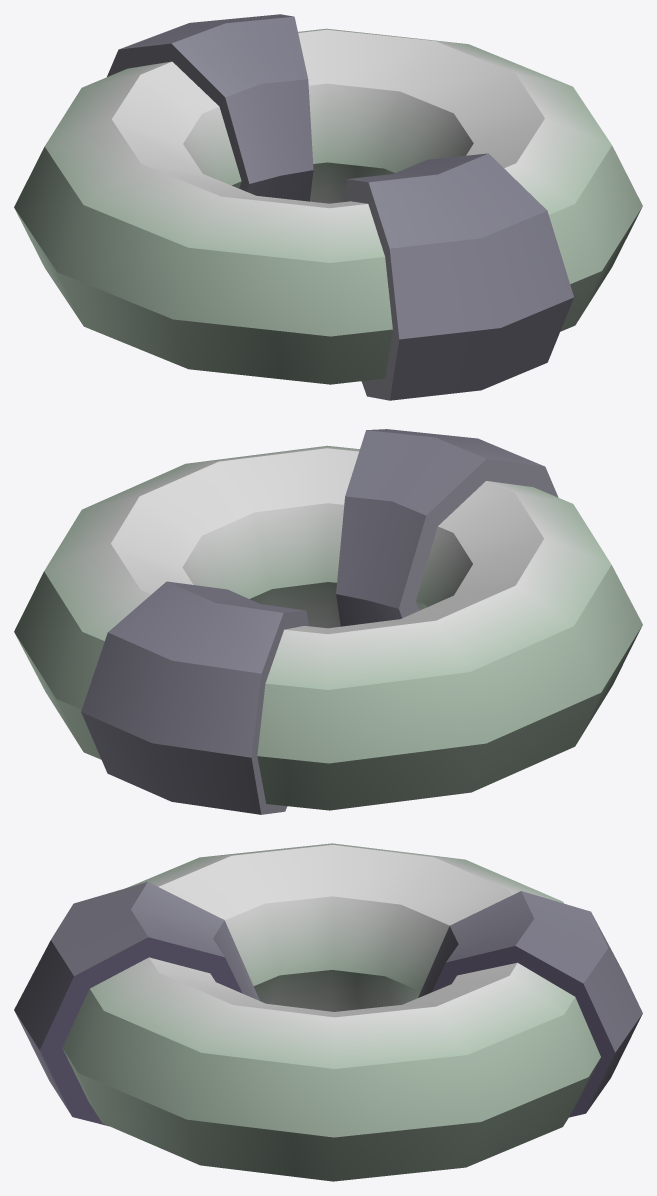
File: RookiesTube.glb
3 views of the same model, one above another, from view 1: azimuth 30°, elevation 25°; view 2: azimuth 150°, elevation 25°; view 3: azimuth 270°, elevation 25° (orthographic). The views are drawn at different scales.
Visible parts, largest first — view 1: RookiesTube; view 2: RookiesTube; view 3: RookiesTube.
Boxes of the visible parts, bbox=[...] form: RookiesTube: bbox=[14, 14, 642, 400]; RookiesTube: bbox=[14, 429, 642, 814]; RookiesTube: bbox=[14, 843, 642, 1181].
Size of the model in its own units: 1.02 by 0.3893 by 1.1.
